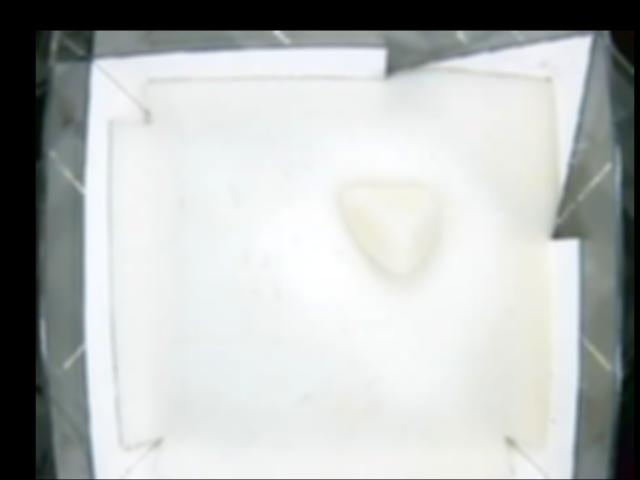Mooli: (339, 186, 439, 275)
